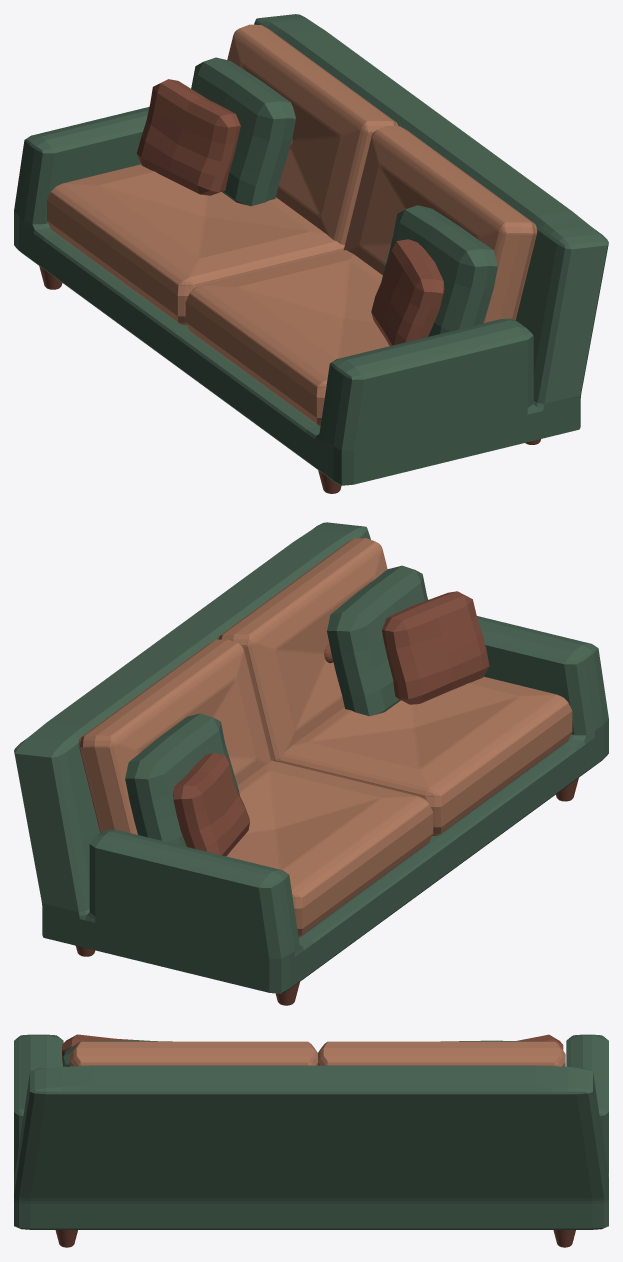
The model's file is Livingroom_Sofa2.fbx.
The picture shows the model from 3 angles, top to bottom: view 1: azimuth 30°, elevation 25°; view 2: azimuth 150°, elevation 25°; view 3: azimuth 270°, elevation 25°; orthographic projection. The views are drawn at different scales.
Parts seen in each view (by area): view 1: Livingroom_Sofa2.001, Livingroom_Sofa2, Livingroom_Sofa2.002; view 2: Livingroom_Sofa2.001, Livingroom_Sofa2, Livingroom_Sofa2.002; view 3: Livingroom_Sofa2.001, Livingroom_Sofa2, Livingroom_Sofa2.002.
Boxes of the visible parts, x1,y1,x2,y2 form: Livingroom_Sofa2.001: (14,14,608,485); Livingroom_Sofa2: (47,24,537,426); Livingroom_Sofa2.002: (39,79,540,493); Livingroom_Sofa2.001: (14,522,608,993); Livingroom_Sofa2: (78,538,572,936); Livingroom_Sofa2.002: (76,591,578,1005); Livingroom_Sofa2.001: (14,1034,608,1229); Livingroom_Sofa2: (70,1041,565,1066); Livingroom_Sofa2.002: (55,1034,575,1247).
Size of the model in its own units: 213 by 76.87 by 103.
